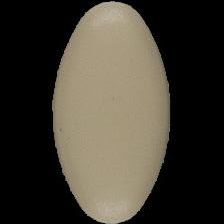53808-0957: (0, 0, 224, 224)
